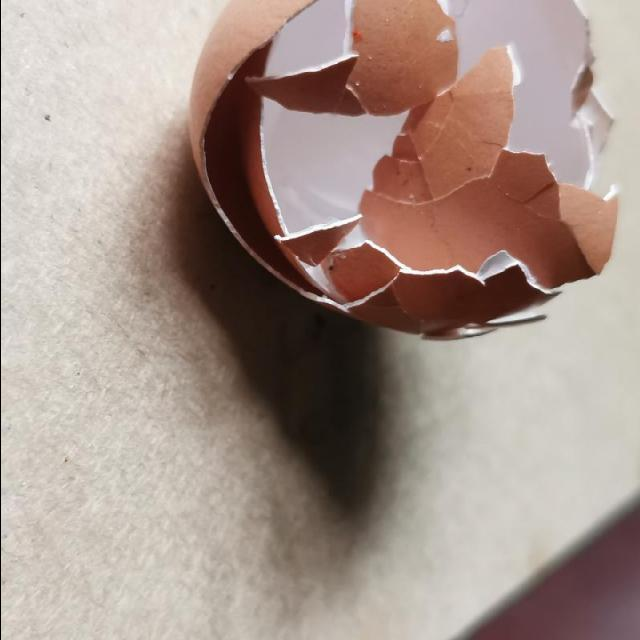egg shell: (182, 0, 620, 342)
